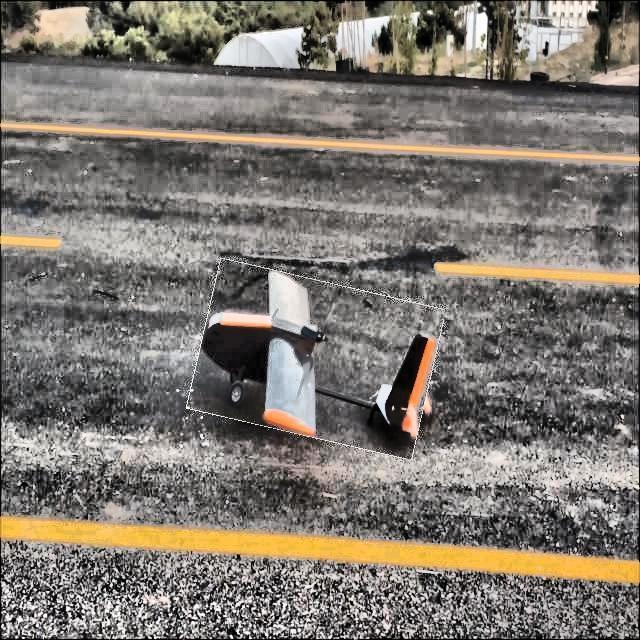iha: (192, 257, 449, 452)
